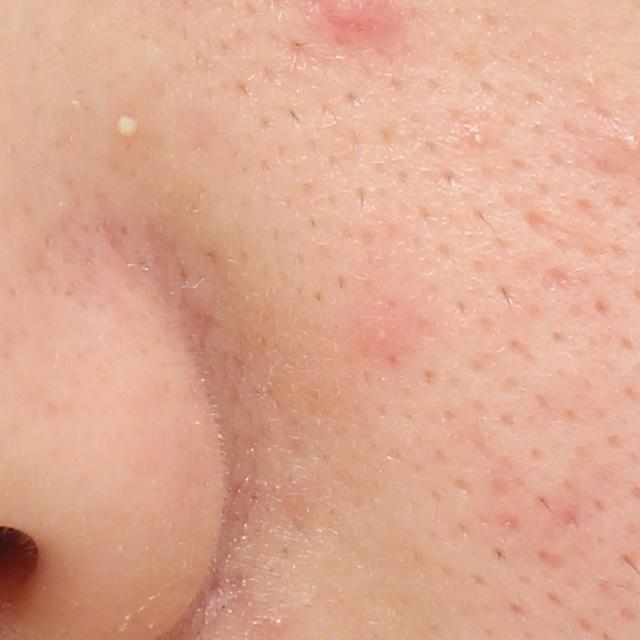atrophic_scar: (523, 211, 618, 260), (535, 266, 575, 300)
pustule: (114, 107, 145, 142)
